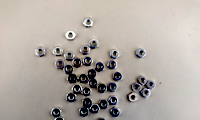nut: (51, 108, 62, 118), (79, 107, 90, 117), (66, 93, 77, 103), (65, 31, 76, 41), (83, 18, 94, 28), (89, 39, 100, 49), (80, 45, 91, 55), (83, 57, 94, 67), (67, 74, 78, 84), (72, 84, 82, 95), (81, 87, 92, 97), (90, 104, 101, 114), (111, 107, 121, 118), (128, 93, 139, 103), (36, 47, 46, 57), (53, 47, 63, 57), (55, 59, 65, 69), (73, 58, 83, 68), (65, 51, 75, 61), (83, 98, 93, 108), (138, 76, 148, 86), (147, 80, 157, 90), (142, 89, 152, 99), (133, 83, 143, 93), (110, 50, 120, 60), (113, 72, 123, 82), (108, 60, 118, 70), (95, 62, 105, 72), (108, 83, 118, 93), (99, 99, 109, 109), (98, 84, 108, 94), (89, 78, 99, 88), (78, 74, 88, 84), (87, 70, 97, 80), (137, 49, 147, 58), (109, 97, 119, 106), (65, 66, 74, 73), (55, 117, 65, 120), (97, 119, 107, 120)
